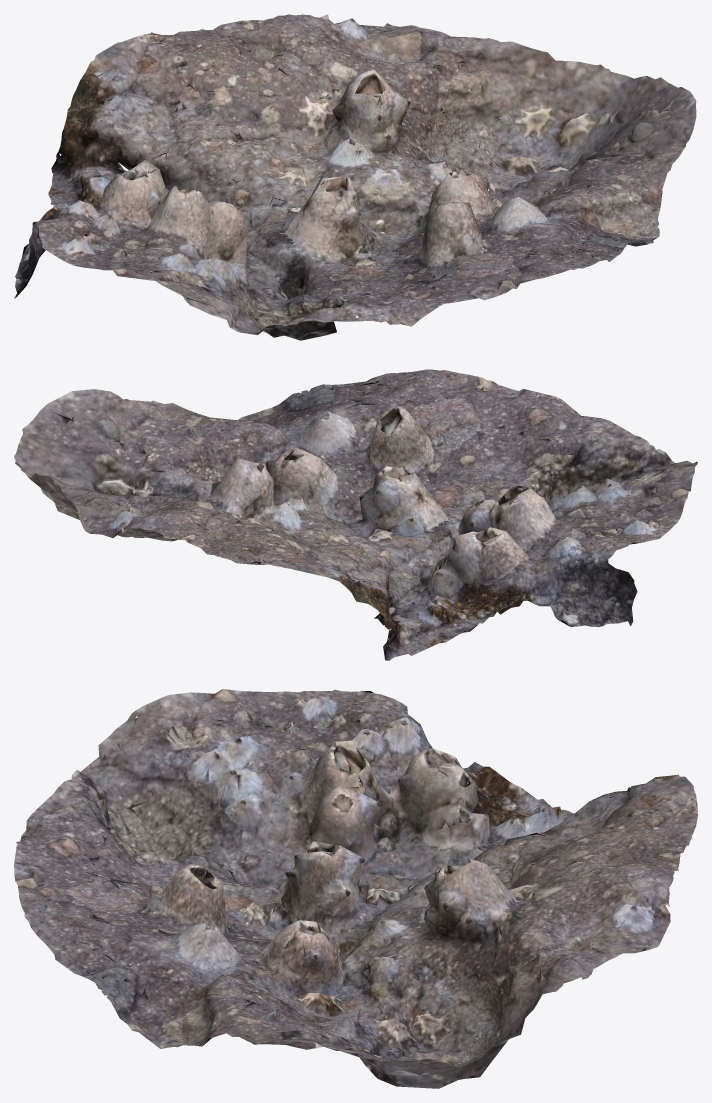
The model's file is scan_barnacle_rock.glb.
3 renders of one model, top to bottom at view 1: azimuth 30°, elevation 25°; view 2: azimuth 150°, elevation 25°; view 3: azimuth 270°, elevation 25°, orthographic. The views are drawn at different scales.
Visible parts, largest first — view 1: scan_barnacle_rock; view 2: scan_barnacle_rock; view 3: scan_barnacle_rock.
Part boxes in pixels (bbox=[...]): scan_barnacle_rock: bbox=[14, 14, 697, 340]; scan_barnacle_rock: bbox=[14, 369, 697, 660]; scan_barnacle_rock: bbox=[14, 689, 697, 1088].
Size of the model in its own units: 1.6 by 0.3039 by 1.31.
1 material, 1 textured.
